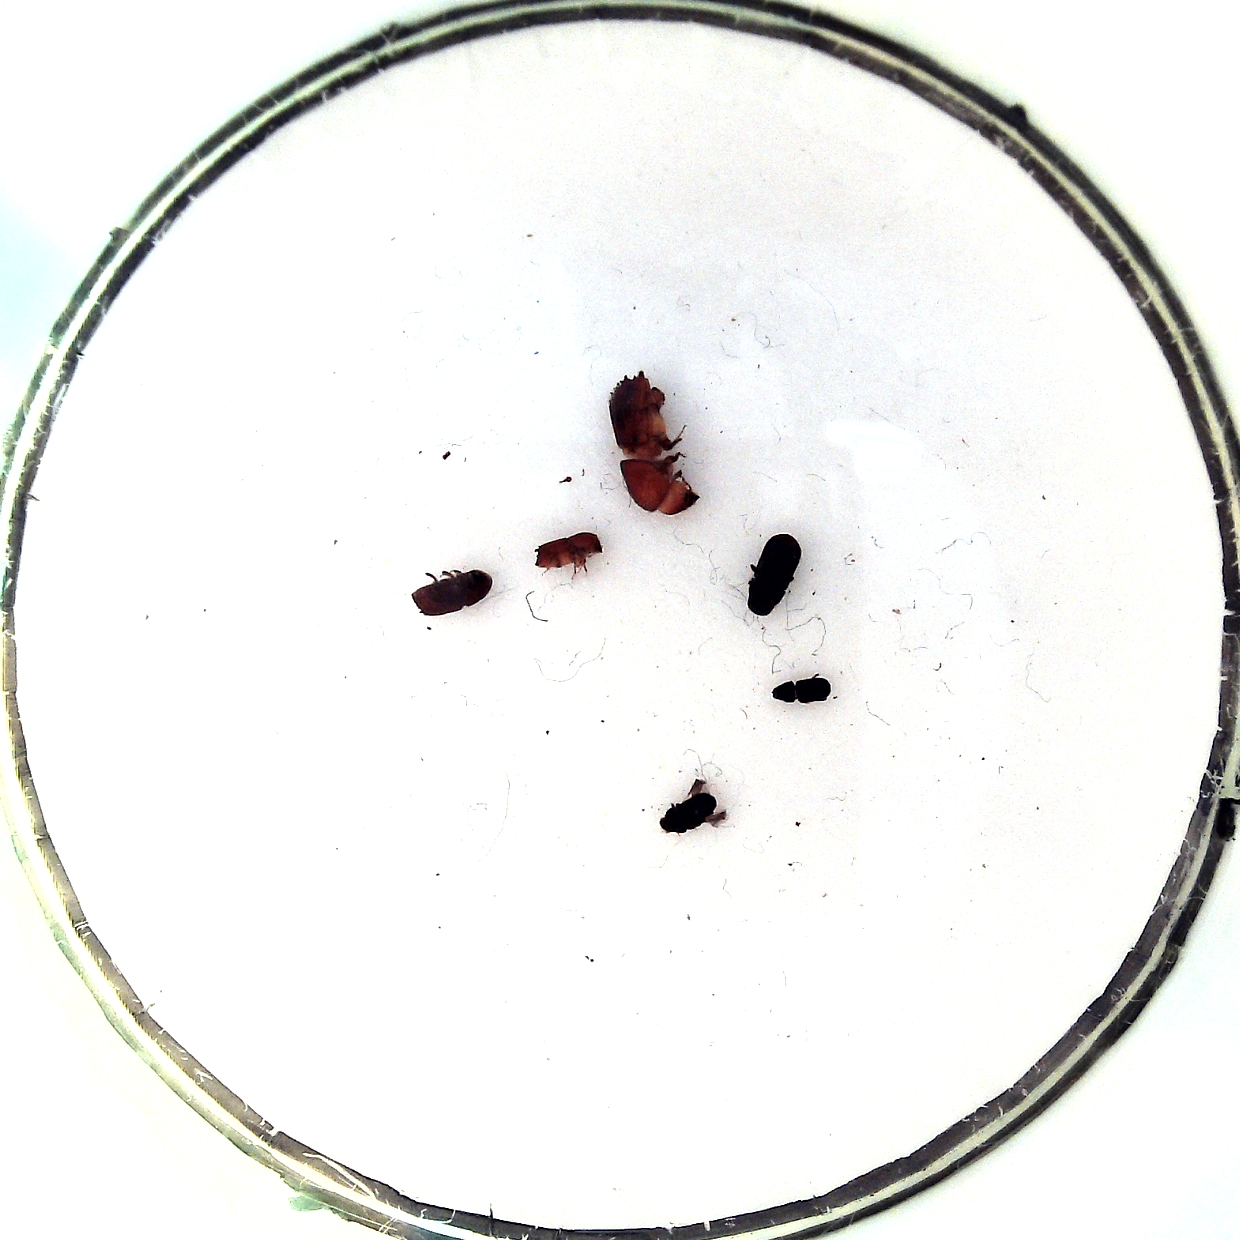Boerner: (608, 370, 701, 516)
acuminatus: (659, 791, 718, 833), (772, 677, 831, 704)
armandi: (747, 533, 801, 617)
coleoptera: (534, 533, 602, 570)
linnaeus: (411, 570, 492, 615)
